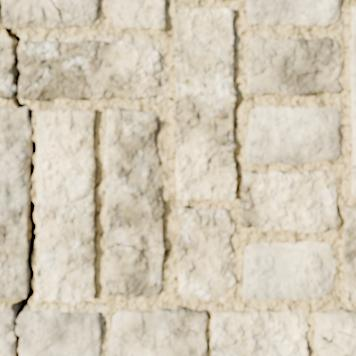brick: (35, 109, 96, 303), (174, 8, 235, 200), (104, 108, 163, 297), (240, 171, 339, 233), (0, 109, 31, 300), (246, 106, 340, 164), (246, 37, 340, 95), (176, 207, 234, 301), (243, 242, 335, 300), (109, 307, 206, 355), (210, 309, 307, 355), (247, 0, 340, 26), (315, 310, 355, 355), (2, 0, 59, 28), (109, 0, 164, 29), (55, 0, 97, 27), (344, 205, 355, 302), (351, 8, 355, 196)
broken_brick: (19, 39, 163, 101), (17, 309, 101, 355), (0, 39, 12, 100), (0, 310, 15, 355)
crack: (0, 1, 37, 355), (105, 228, 155, 254), (47, 0, 63, 27), (303, 91, 315, 95), (341, 349, 347, 355), (67, 295, 70, 303)
